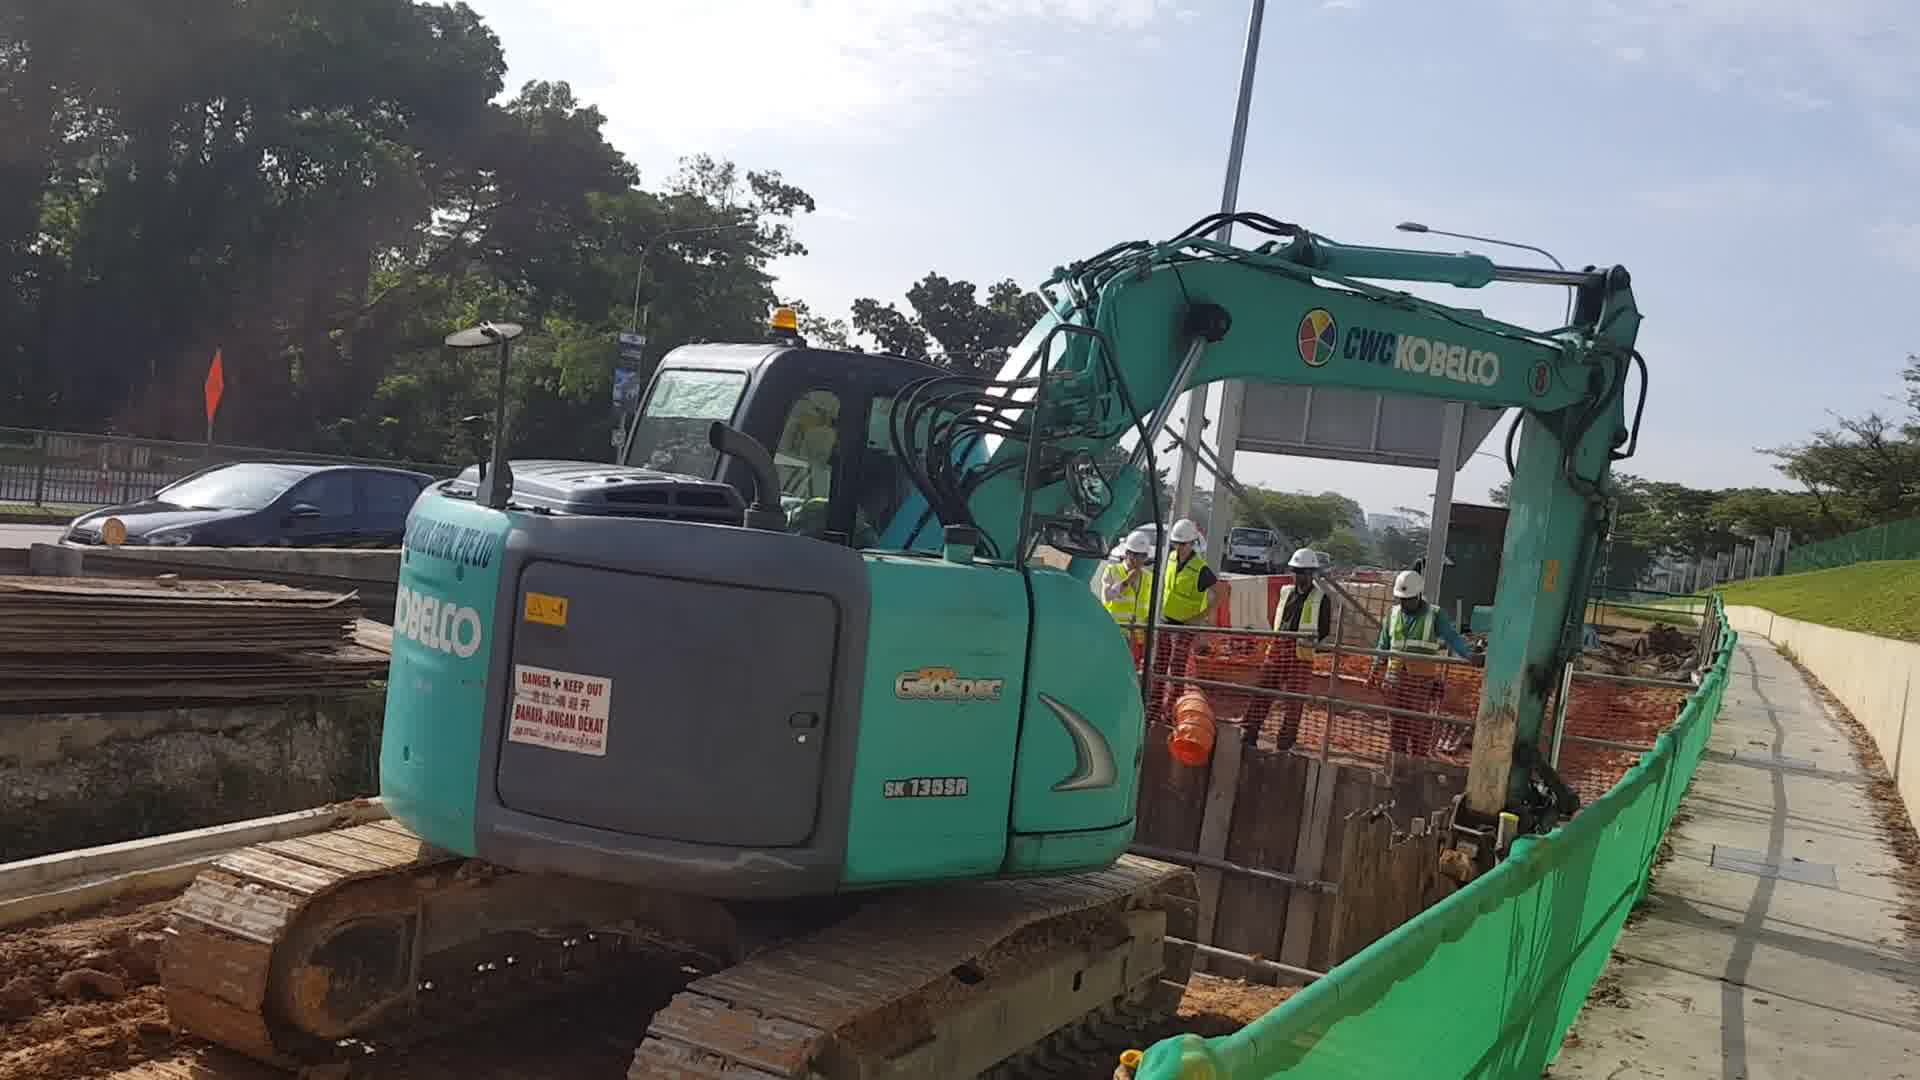cabin: (376, 301, 1153, 880)
forearm: (1458, 266, 1642, 812)
upperarm: (884, 258, 1600, 546)
wheelbase: (160, 814, 1203, 1080)
